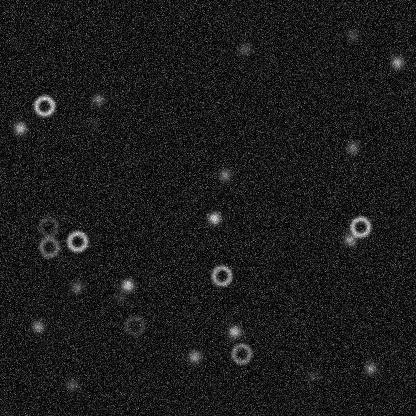Ring: (65, 229, 89, 253), (348, 214, 372, 238), (36, 214, 60, 238), (37, 234, 61, 258), (122, 313, 146, 337), (229, 341, 253, 365), (209, 263, 233, 287), (32, 93, 56, 117)
Spot: (344, 26, 360, 42), (186, 348, 202, 364), (303, 367, 319, 383), (68, 279, 84, 295), (111, 289, 127, 305), (63, 376, 79, 392), (226, 323, 242, 339), (89, 91, 105, 107), (85, 114, 101, 130), (30, 318, 46, 334), (11, 119, 27, 135), (216, 166, 232, 182), (119, 277, 135, 293), (206, 210, 222, 226), (389, 53, 405, 69), (341, 231, 357, 247), (344, 139, 360, 155), (362, 360, 378, 376), (237, 41, 253, 57)
